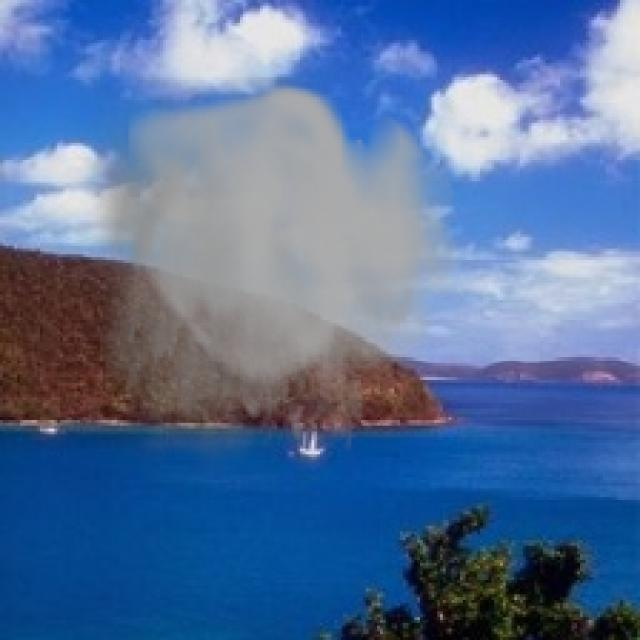Smoke: (77, 77, 460, 492)
